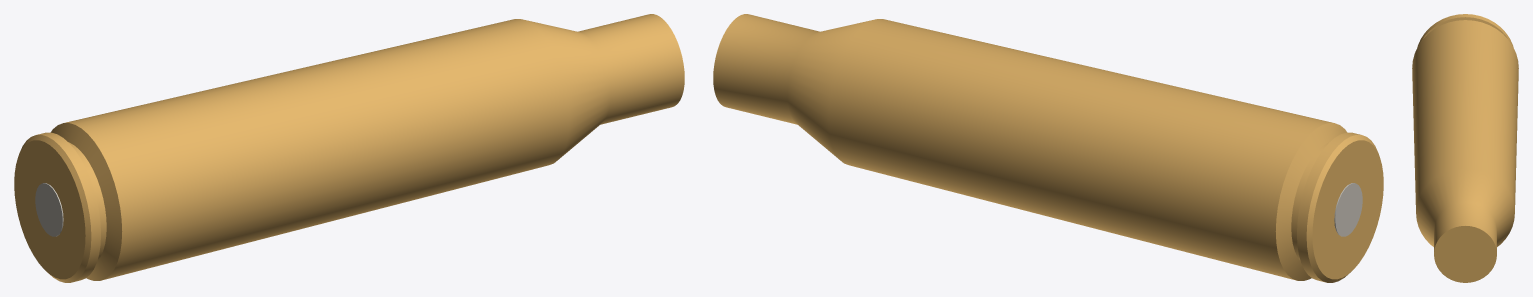
Rendered from estojo.obj.
3 views of the same model, side by side, from view 1: azimuth 30°, elevation 25°; view 2: azimuth 150°, elevation 25°; view 3: azimuth 270°, elevation 25° (orthographic). The views are drawn at different scales.
Size of the model in its own units: 0.2772 by 0.0636 by 0.0636.
